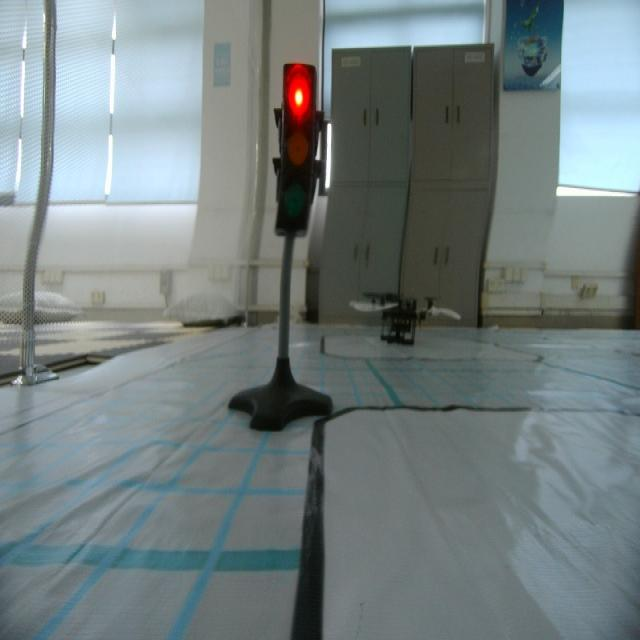red: (281, 52, 313, 243)
